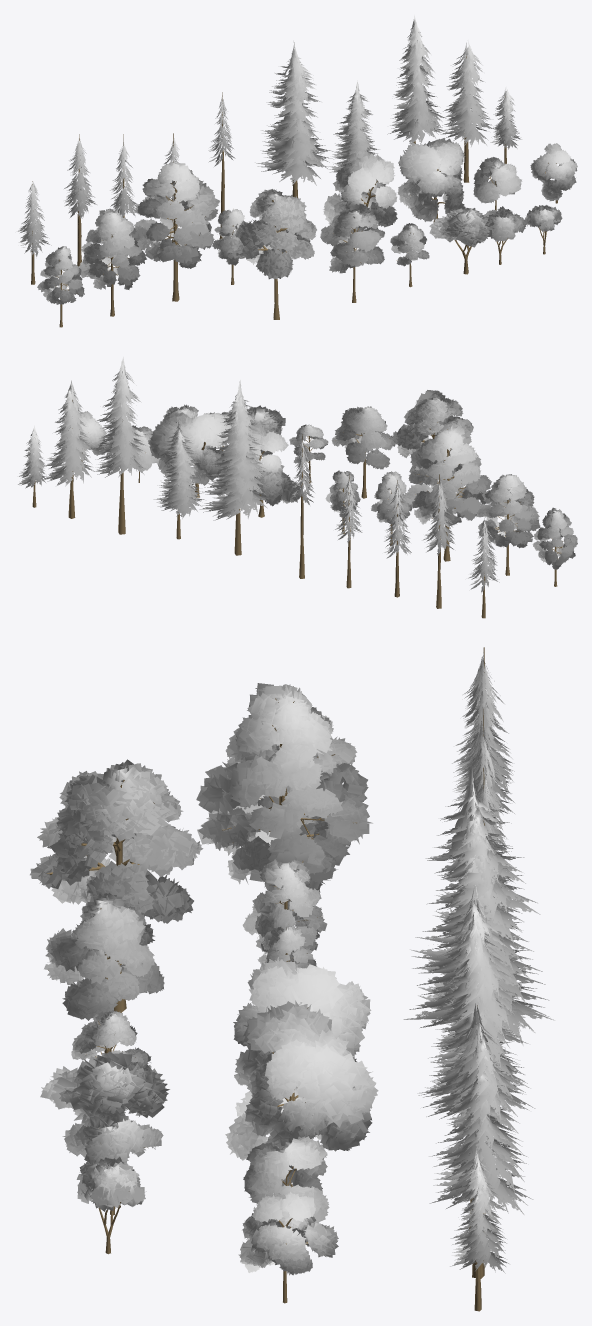
The model's file is Trees_Group_1A1_LOD1.fbx.
The picture shows the model from 3 angles, top to bottom: view 1: azimuth 30°, elevation 25°; view 2: azimuth 150°, elevation 25°; view 3: azimuth 270°, elevation 25°; orthographic projection. The views are drawn at different scales.
Parts seen in each view (by area): view 1: leaf.843, leaf.841, Plane.055, Leaves_4.002, Leaves_3.002, Plane.046, leaf.842, Plane.049, leaf.839, leaf.853, Plane.056, Leaves_4.003 (+17 smaller); view 2: leaf.843, Plane.055, Leaves_4.002, leaf.842, Plane.046, leaf.841, leaf.839, Plane.049, Plane.056, Leaves_3.002, leaf.844, leaf.845 (+14 smaller); view 3: leaf.843, Leaves_4.002, Plane.055, leaf.841, Plane.049, Plane.046, leaf.839, leaf.852, Leaves_3.002, Leaves_2.002, leaf.840, leaf.845 (+14 smaller).
Part boxes in pixels (x1,y1,x2,y2): leaf.843: [132, 161, 219, 268]; leaf.841: [228, 189, 316, 279]; Plane.055: [255, 40, 332, 185]; Leaves_4.002: [397, 138, 465, 221]; Leaves_3.002: [323, 152, 397, 233]; Plane.046: [387, 15, 448, 145]; leaf.842: [78, 208, 145, 289]; Plane.049: [440, 40, 495, 146]; leaf.839: [320, 205, 384, 273]; leaf.853: [79, 209, 146, 288]; Plane.056: [328, 80, 379, 172]; Leaves_4.003: [397, 141, 465, 219]; leaf.843: [403, 424, 491, 525]; Plane.055: [199, 380, 275, 520]; Leaves_4.002: [148, 412, 231, 485]; leaf.842: [476, 474, 540, 548]; Plane.046: [93, 357, 145, 477]; leaf.841: [392, 390, 473, 472]; leaf.839: [331, 406, 395, 469]; Plane.049: [42, 380, 94, 486]; Plane.056: [153, 421, 204, 518]; Leaves_3.002: [225, 423, 298, 506]; leaf.844: [532, 507, 577, 569]; leaf.845: [371, 471, 412, 524]; leaf.843: [196, 683, 372, 892]; Leaves_4.002: [225, 1000, 378, 1160]; Plane.055: [403, 757, 554, 1045]; leaf.841: [30, 762, 201, 923]; Plane.049: [429, 1003, 533, 1214]; Plane.046: [417, 882, 535, 1142]; leaf.839: [44, 892, 164, 1020]; leaf.852: [30, 759, 203, 923]; Leaves_3.002: [233, 957, 371, 1061]; Leaves_2.002: [238, 1191, 338, 1275]; leaf.840: [40, 1051, 169, 1122]; leaf.845: [242, 859, 327, 961].
Bounding box in the file's own units: 10657 × 3609 × 4790.
